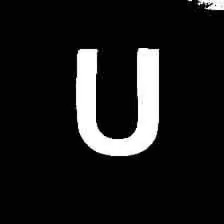LTR_U: (66, 36, 165, 162)
